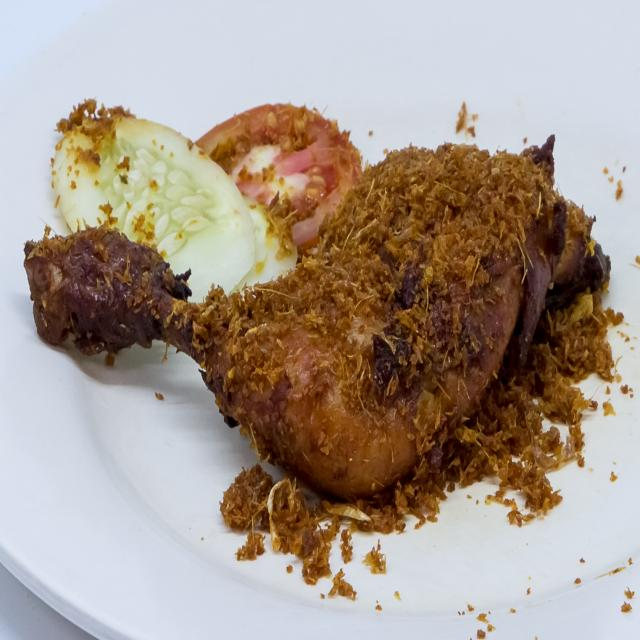Ayam-Goreng-Lengkuas: (9, 89, 621, 515)
